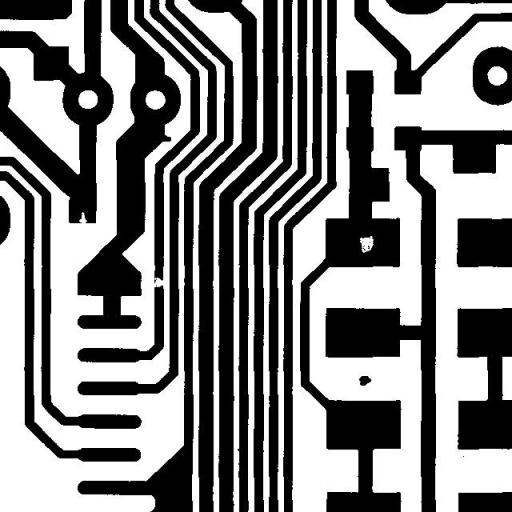copper: (352, 368, 378, 393)
mousebite: (72, 204, 94, 230)
open: (143, 270, 172, 294)
pin-hole: (352, 228, 381, 260)
spur: (150, 128, 178, 150)
